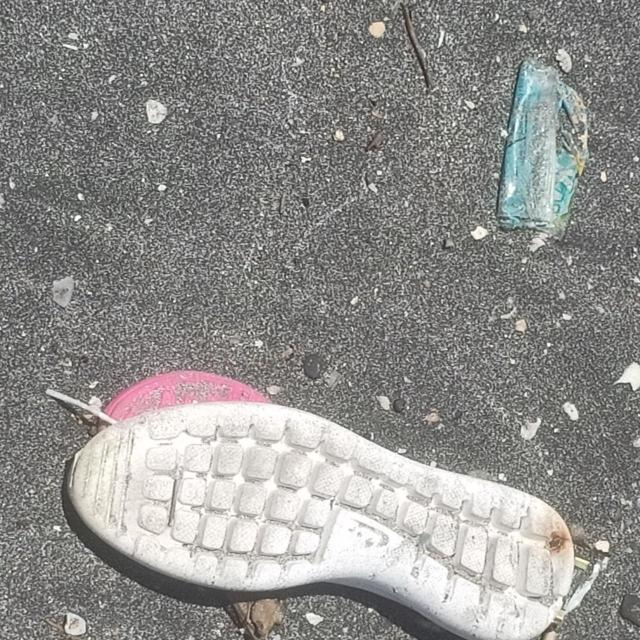litter: (68, 401, 576, 640), (498, 57, 592, 237)
